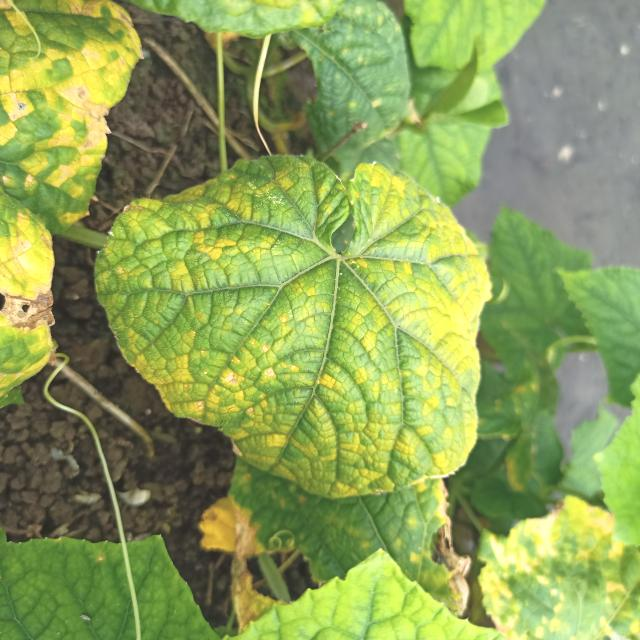disease_cucumber: (107, 159, 490, 499)
